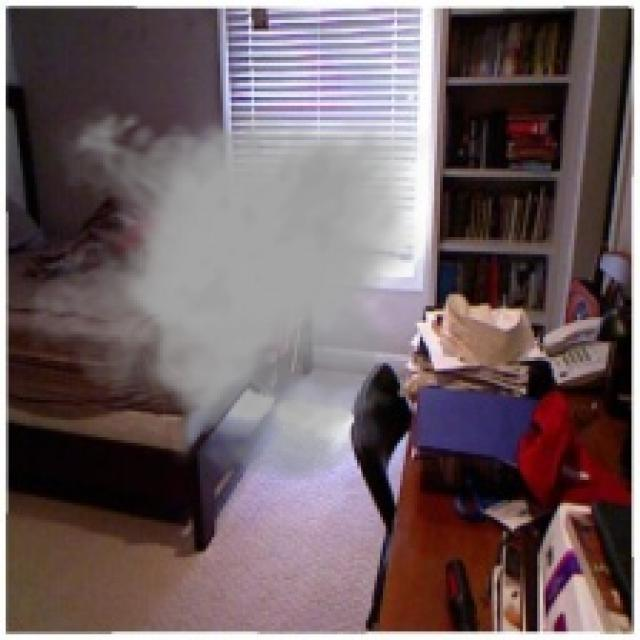Smoke: (29, 100, 432, 486)
